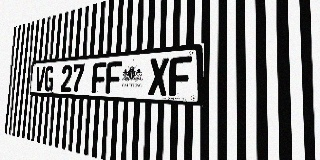2: (60, 65, 73, 92)
7: (71, 64, 84, 93)
F: (169, 56, 192, 97), (105, 61, 122, 94), (92, 62, 107, 94)
G: (43, 66, 54, 92)
V: (35, 67, 45, 91)
X: (148, 57, 169, 96)
